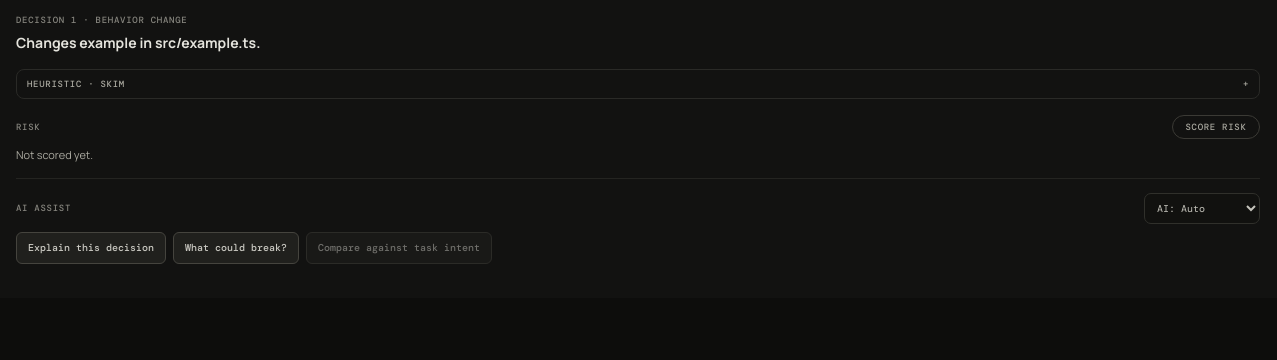
diff review decision detail › keeps a failed assist request visible with a retry action instead of a neutral fallback
Click the button "What could break?".
click(236, 248)  # box x1=173 y1=232 x2=299 y2=264
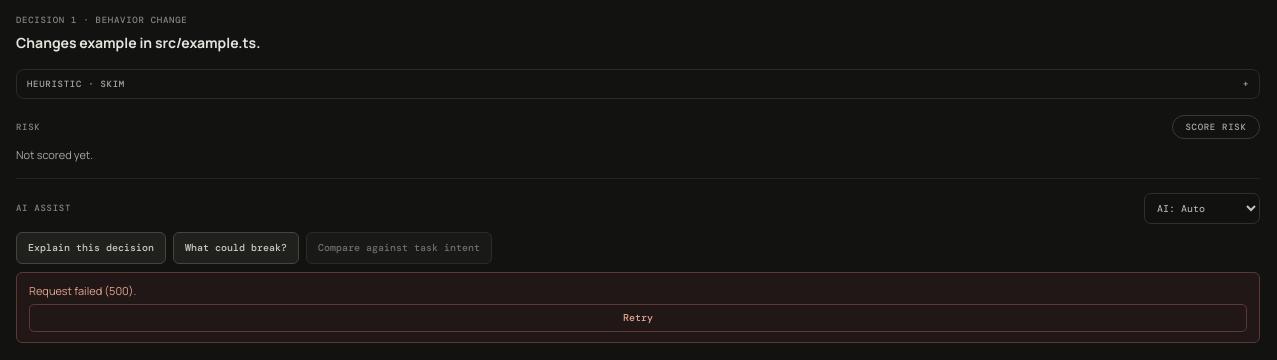
Expected: the message "Request failed (500). Retry" is shown, x1=16 y1=272 x2=1260 y2=343
Expected: the button "Retry" is shown, x1=29 y1=304 x2=1247 y2=332
